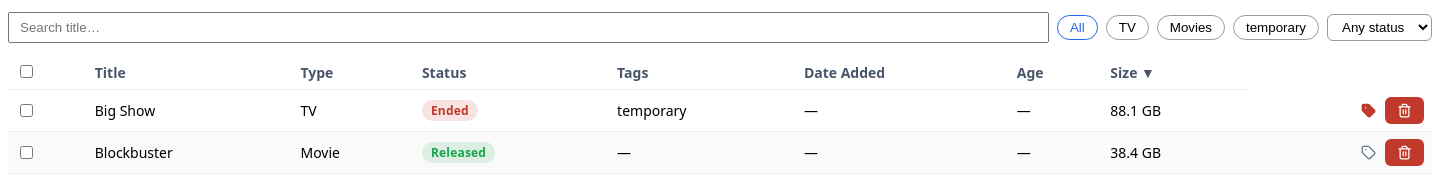
Test: LibraryTable › filters by the selected status
Select "Ended" in the dropdown named "Filter by status" at x=1380, y=28, box left=1327, top=14, right=1432, bottom=41
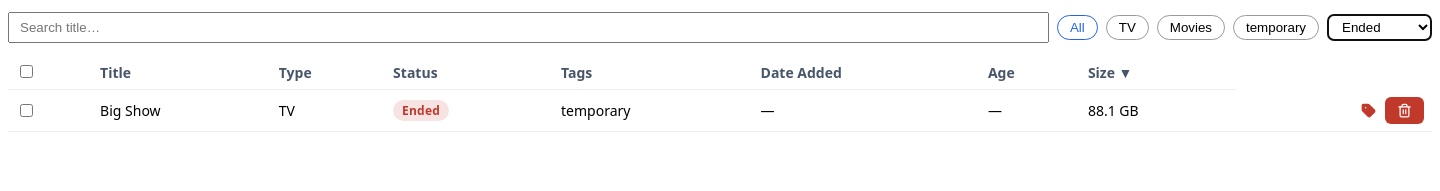
Expected: the text "Big Show" is shown, left=92, top=90, right=271, bottom=132
Expected: the text "Blockbuster" is gone
